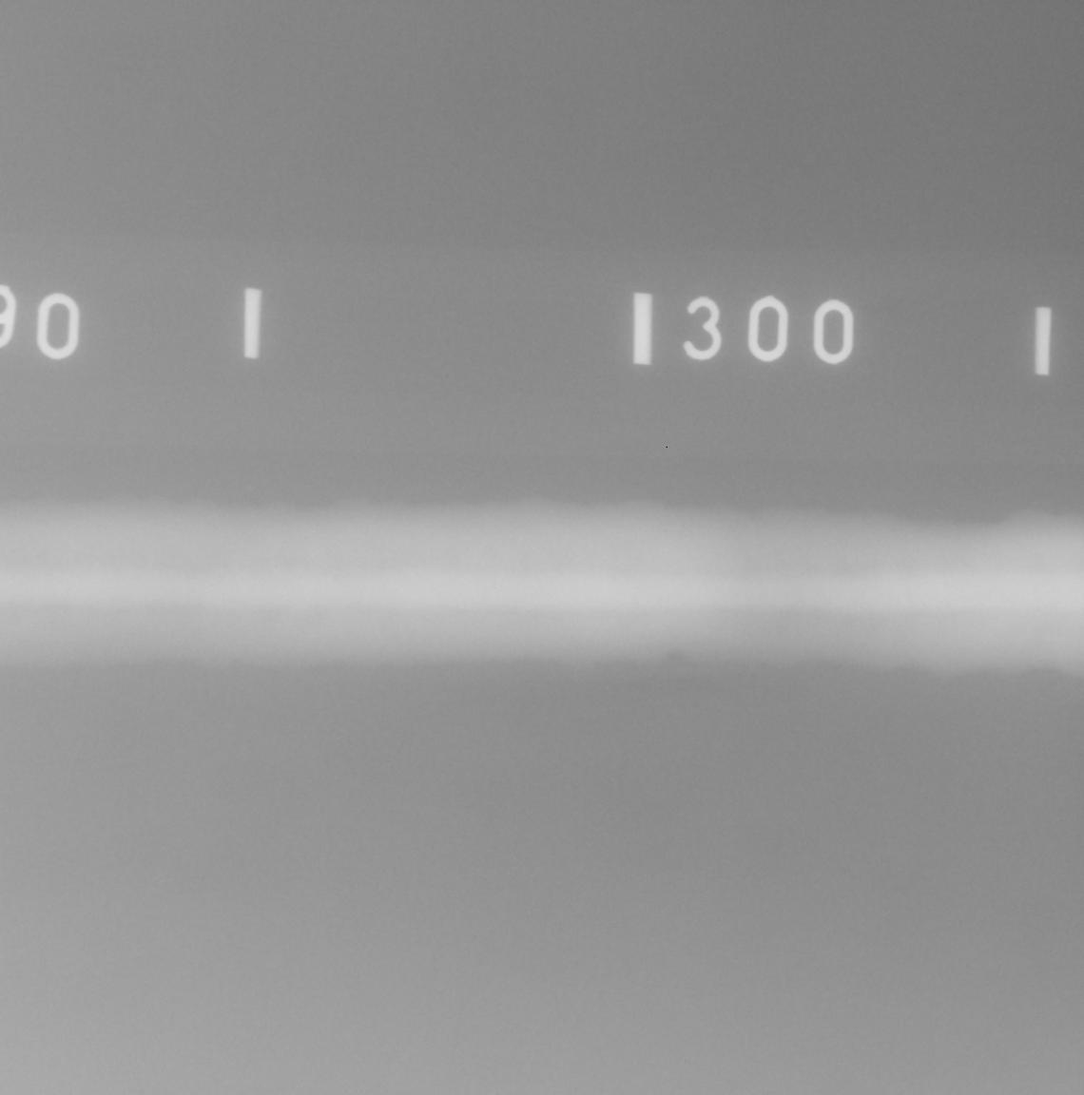Pore/Porosity: (667, 651, 682, 662)
